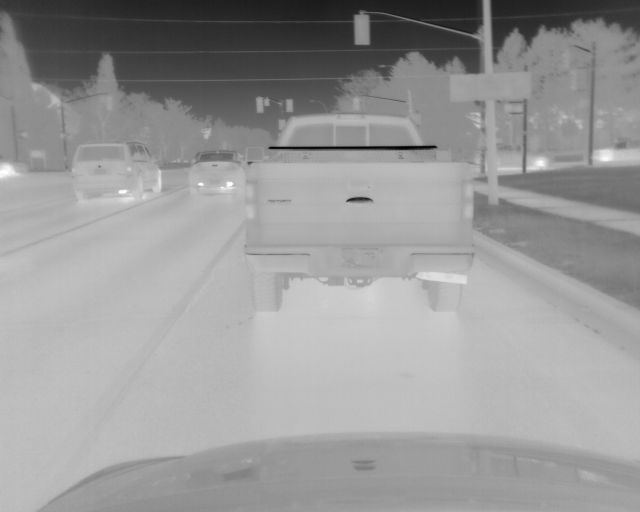car: (243, 111, 475, 313), (70, 141, 163, 202), (190, 150, 246, 196), (476, 142, 548, 170), (592, 135, 640, 166), (533, 147, 598, 169), (1, 161, 31, 183)
